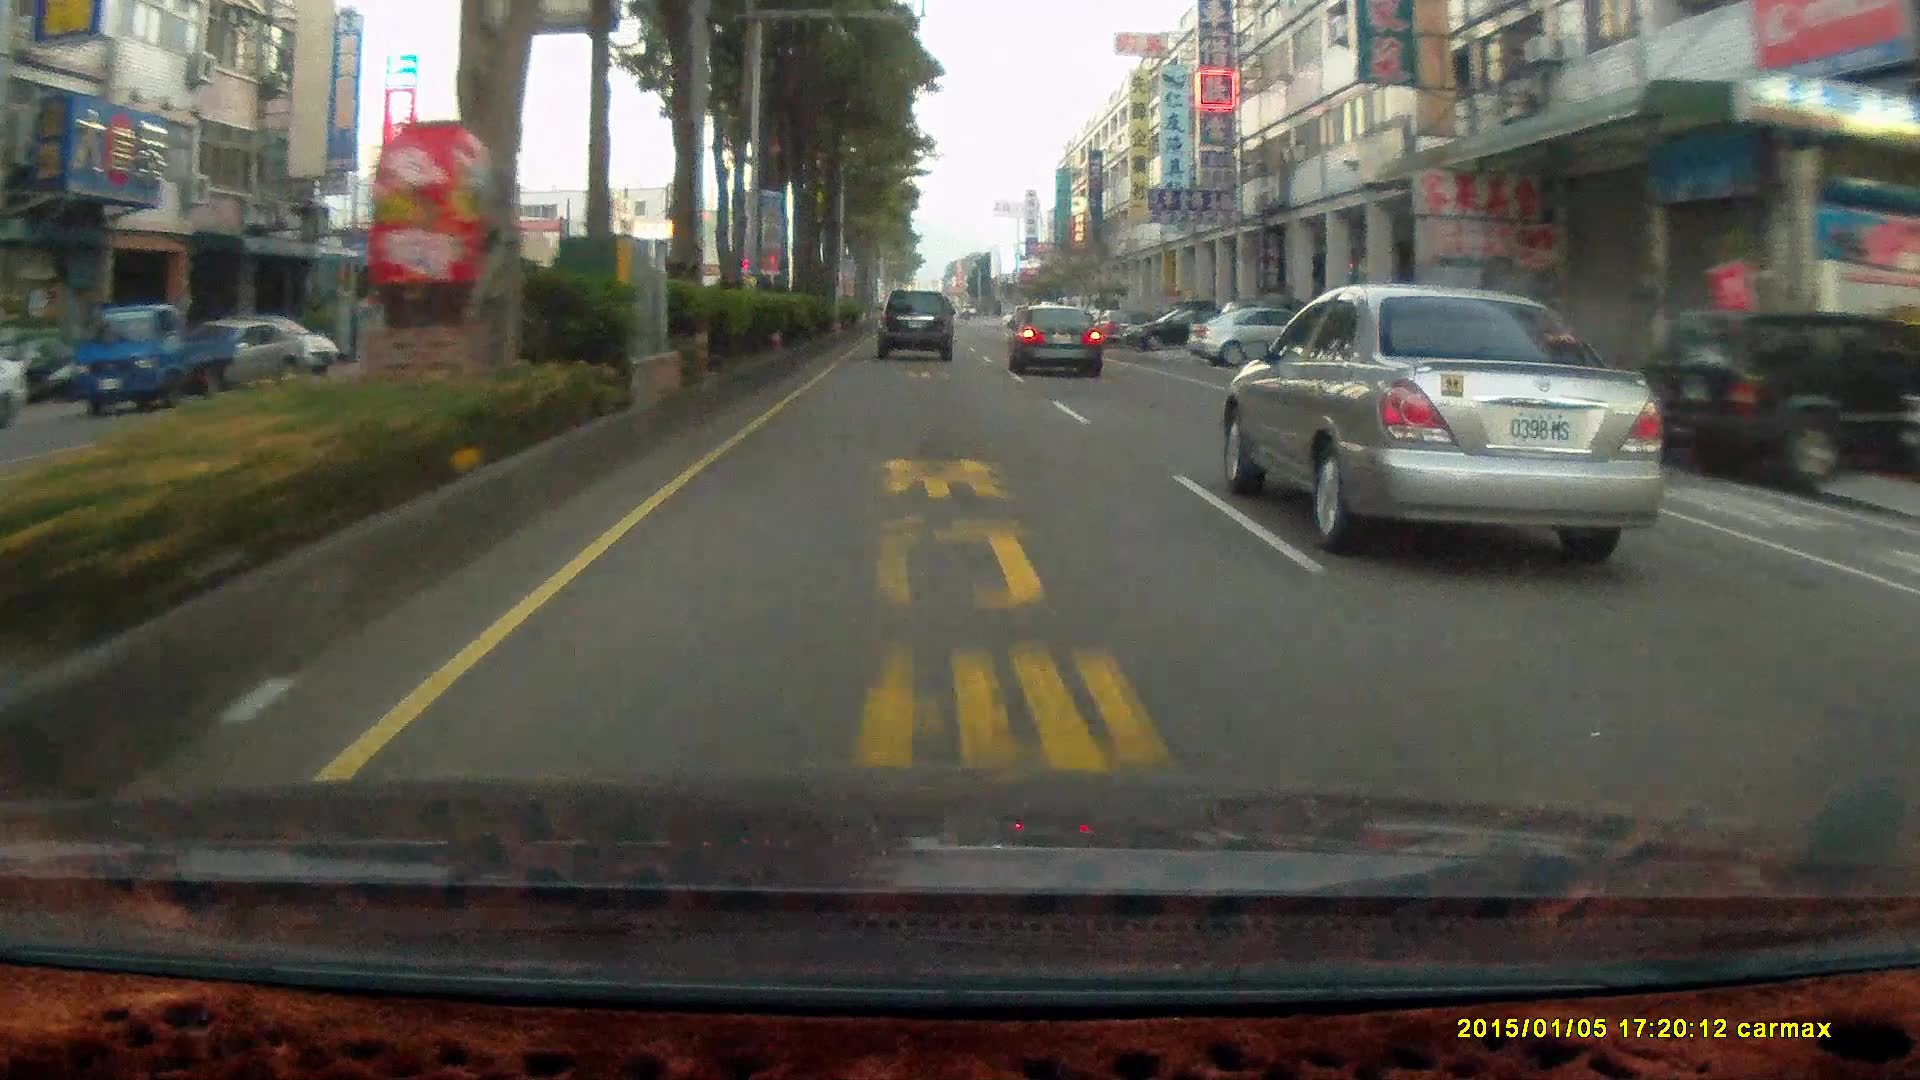vehicle: (1226, 286, 1688, 558), (1644, 313, 1920, 488), (1652, 307, 1919, 487), (69, 302, 233, 415), (1317, 313, 1469, 423), (80, 306, 237, 411), (164, 320, 309, 393), (1187, 307, 1348, 369), (1004, 302, 1104, 376), (1009, 305, 1106, 378), (876, 291, 957, 367), (873, 291, 955, 363), (1121, 305, 1240, 351), (0, 353, 26, 433)
